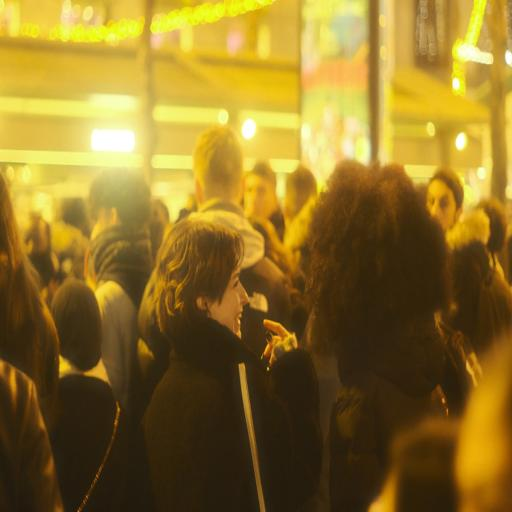face: (209, 268, 248, 337), (427, 180, 461, 232), (244, 175, 277, 218)
